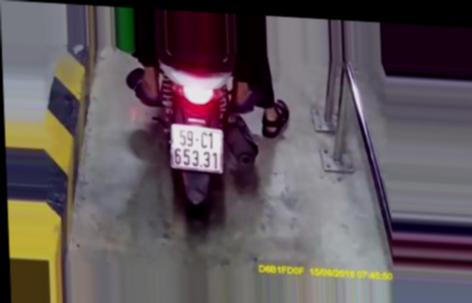License_Plate: (161, 120, 227, 176)
